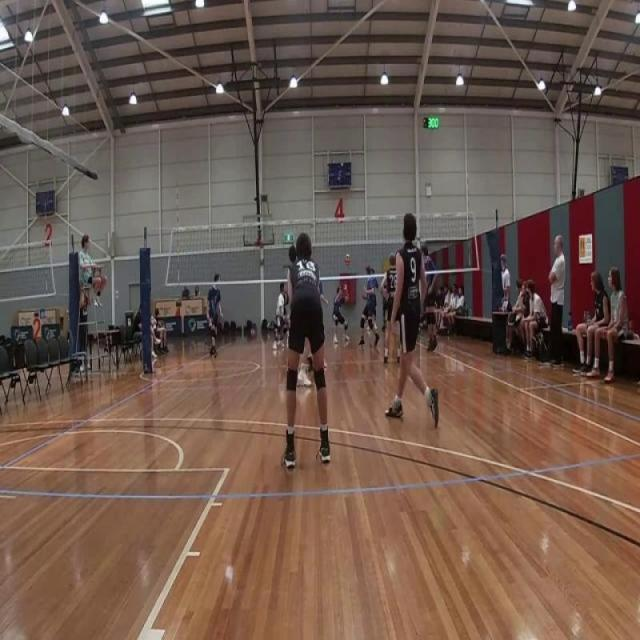volleyball: (344, 254, 352, 266)
